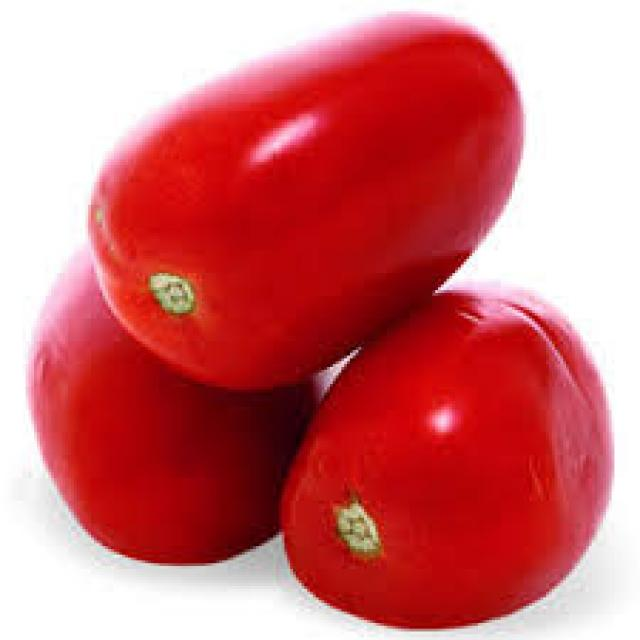organic waste: (85, 9, 518, 384), (276, 284, 611, 632), (28, 242, 322, 566)
